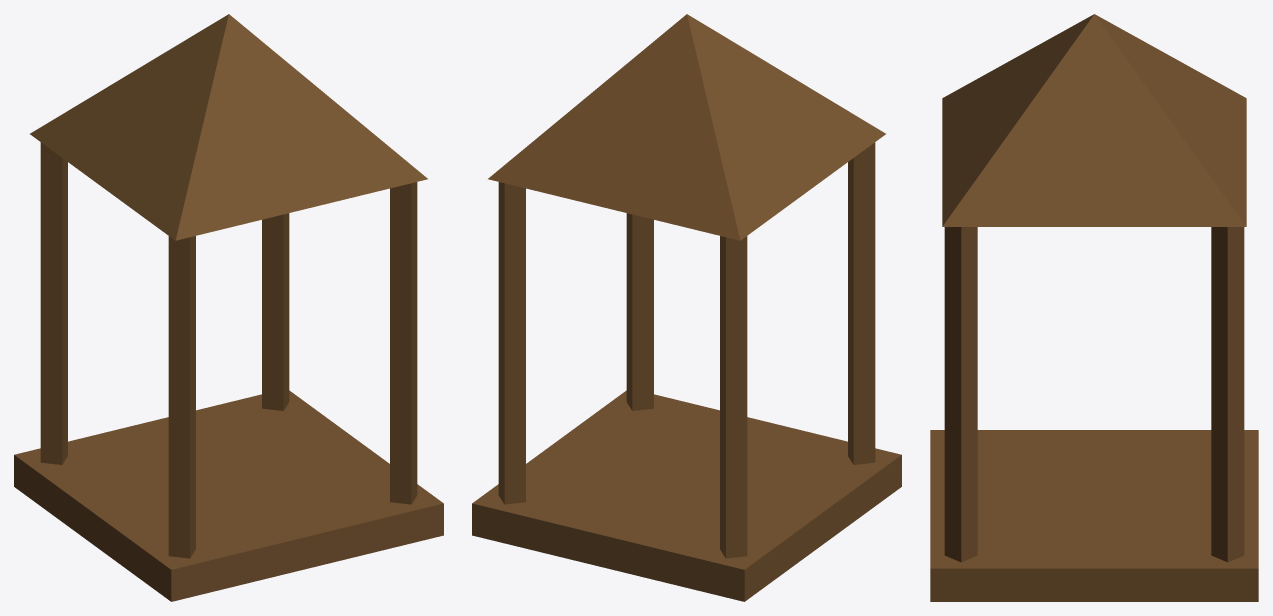
3 views of the same model, side by side, from view 1: azimuth 30°, elevation 25°; view 2: azimuth 150°, elevation 25°; view 3: azimuth 270°, elevation 25° (orthographic). The views are drawn at different scales.
Visible parts, largest first — view 1: 纸灯笼框架与折顶.001; view 2: 纸灯笼框架与折顶.001; view 3: 纸灯笼框架与折顶.001.
Boxes of the visible parts, x1=… form: 纸灯笼框架与折顶.001: x1=14, y1=14, x2=443, y2=601; 纸灯笼框架与折顶.001: x1=472, y1=14, x2=901, y2=601; 纸灯笼框架与折顶.001: x1=930, y1=14, x2=1258, y2=601.
Size of the model in its own units: 0.16 by 0.279 by 0.16.
